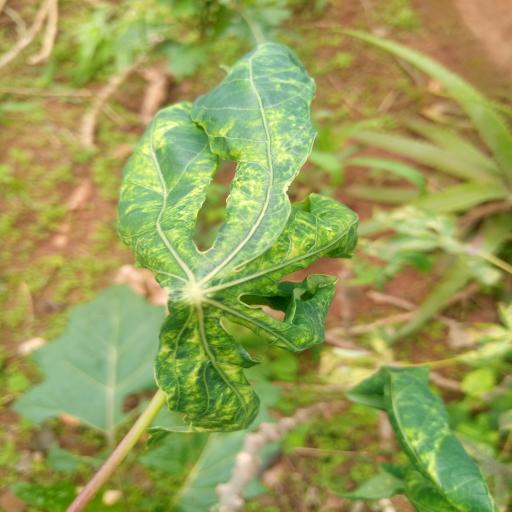Cassava_Mosaic: (112, 36, 370, 434)
